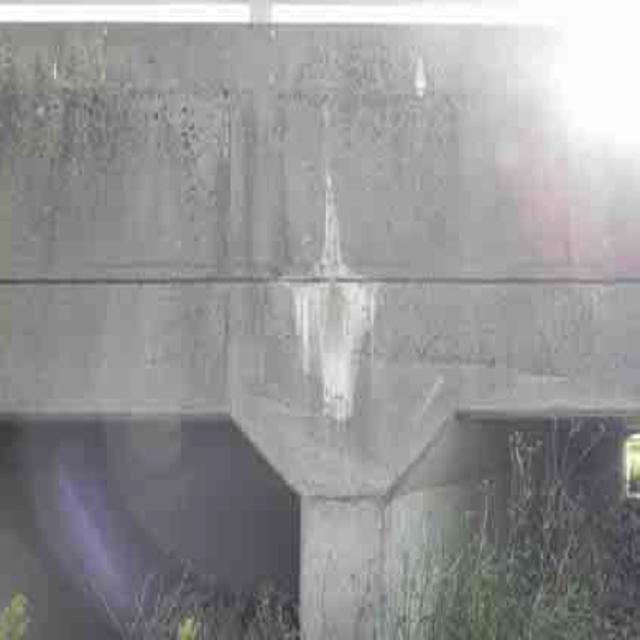freelime: (280, 180, 379, 437)
